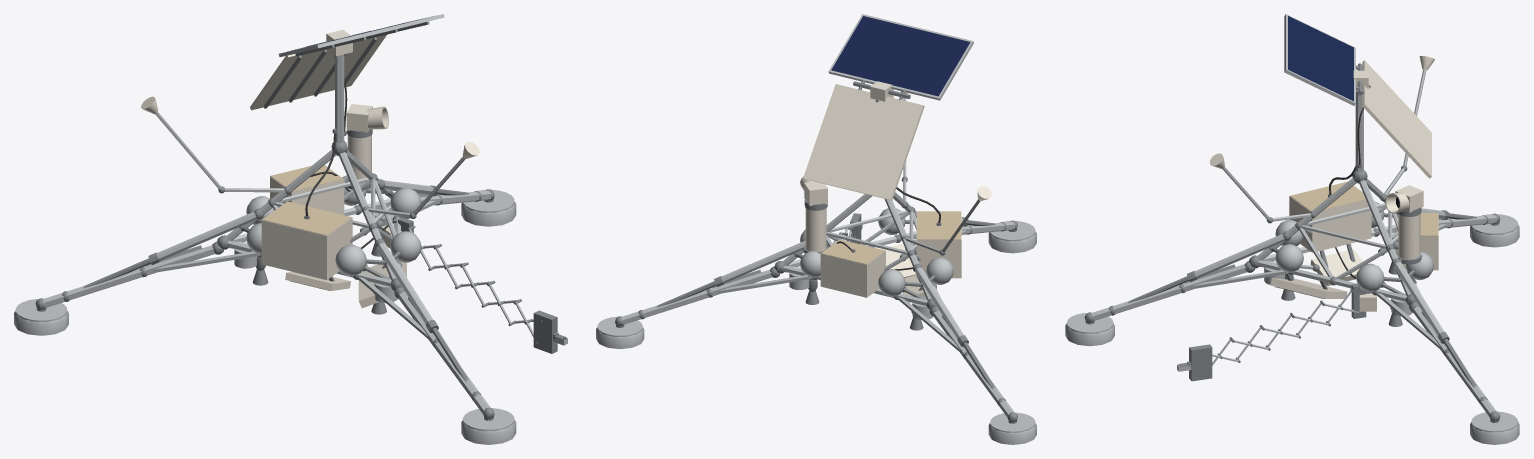
Rendered from surveyor-3.glb.
3 renders of one model, left to right at view 1: azimuth 30°, elevation 25°; view 2: azimuth 150°, elevation 25°; view 3: azimuth 270°, elevation 25°, orthographic. The views are drawn at different scales.
Visible parts, largest first — view 1: SV_Body, SV_Legs, SV_Antenna, SV_Sampler, SV_TVCamera, SV_Radar, SV_Solar; view 2: SV_Body, SV_Antenna, SV_Legs, SV_Solar, SV_TVCamera, SV_Radar; view 3: SV_Body, SV_Legs, SV_Antenna, SV_Solar, SV_Sampler, SV_TVCamera, SV_Radar.
Boxes of the visible parts, left/top/right/bottom form: SV_Body: left=217, top=55, right=421, bottom=314; SV_Legs: left=14, top=179, right=516, bottom=444; SV_Antenna: left=141, top=29, right=479, bottom=218; SV_Sampler: left=381, top=218, right=567, bottom=353; SV_TVCamera: left=345, top=104, right=388, bottom=205; SV_Radar: left=285, top=254, right=406, bottom=308; SV_Solar: left=279, top=14, right=444, bottom=56; SV_Body: left=774, top=99, right=961, bottom=330; SV_Antenna: left=803, top=81, right=991, bottom=255; SV_Legs: left=596, top=217, right=1036, bottom=444; SV_Solar: left=828, top=14, right=973, bottom=100; SV_TVCamera: left=800, top=176, right=828, bottom=253; SV_Radar: left=881, top=243, right=936, bottom=302; SV_Body: left=1249, top=85, right=1438, bottom=326; SV_Legs: left=1065, top=208, right=1519, bottom=444; SV_Antenna: left=1209, top=56, right=1434, bottom=223; SV_Solar: left=1284, top=14, right=1359, bottom=105; SV_Sampler: left=1177, top=283, right=1376, bottom=381; SV_TVCamera: left=1385, top=185, right=1423, bottom=283; SV_Radar: left=1270, top=243, right=1362, bottom=298.
Size of the model in its own units: 4.69 by 2.94 by 4.12.
